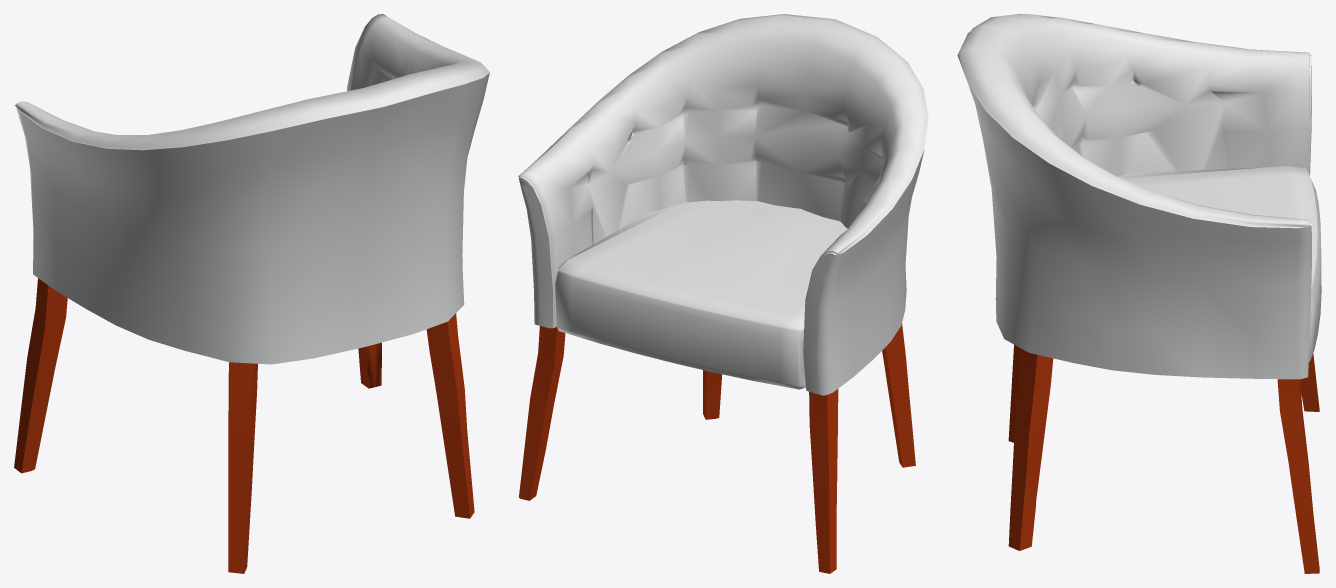
The model's file is chair2.obj.
3 views of the same model, side by side, from view 1: azimuth 30°, elevation 25°; view 2: azimuth 150°, elevation 25°; view 3: azimuth 270°, elevation 25° (orthographic). The views are drawn at different scales.
Parts seen in each view (by area): view 1: chair2; view 2: chair2; view 3: chair2.
Boxes of the visible parts, bbox=[...] form: chair2: bbox=[14, 14, 489, 573]; chair2: bbox=[518, 14, 928, 573]; chair2: bbox=[957, 14, 1321, 573].
Size of the model in its own units: 168 by 199 by 148.
